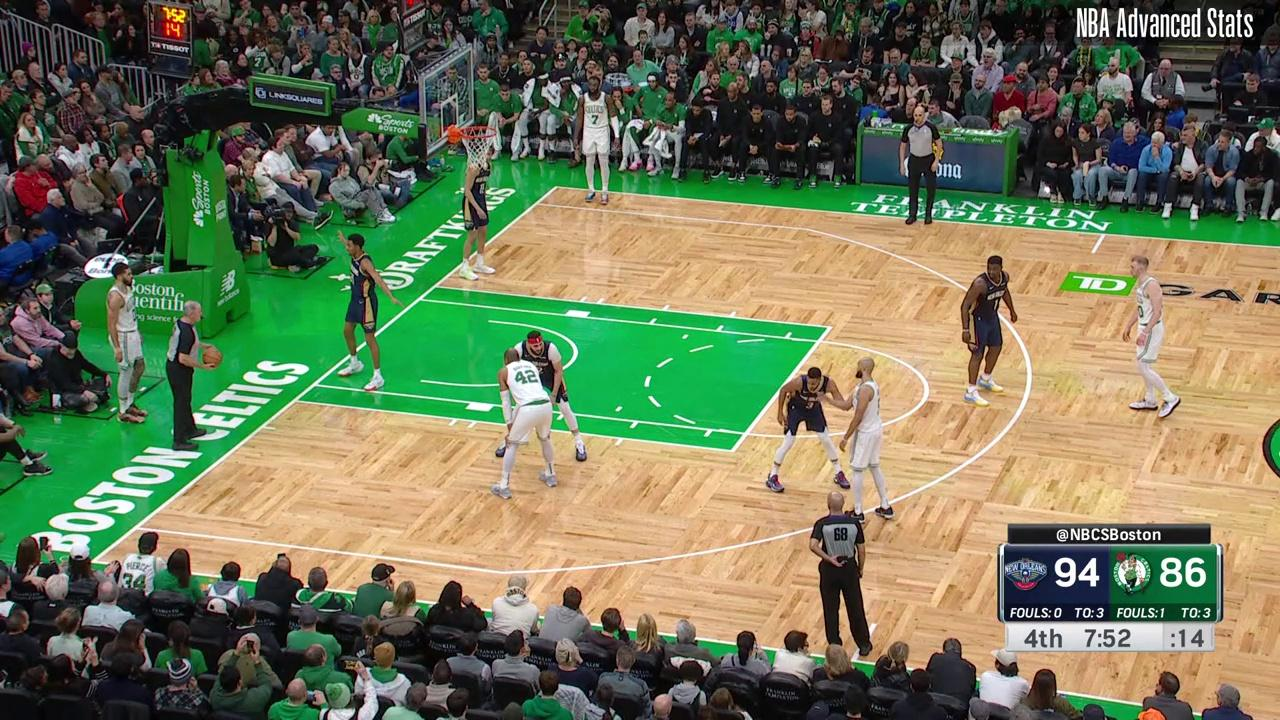3_dx: (529, 199, 544, 211)
3_sx: (129, 521, 144, 535)
b_dx: (549, 182, 564, 194)
b_sx: (86, 554, 102, 570)
free_adx: (822, 321, 837, 333)
free_asx: (724, 444, 739, 458)
free_bdx: (427, 281, 442, 294)
free_bsx: (289, 395, 304, 409)
mid_dx: (1086, 246, 1099, 257)
mid_sx: (867, 619, 880, 629)
referee: (808, 489, 879, 657), (163, 298, 225, 456), (896, 104, 945, 228)
team: (1118, 254, 1184, 421), (835, 352, 899, 524), (491, 348, 556, 502), (103, 259, 149, 432), (571, 75, 623, 204)
team1: (498, 328, 585, 465), (334, 231, 405, 397), (761, 364, 848, 490), (958, 254, 1020, 407), (458, 145, 495, 282)
timer: (1080, 618, 1136, 656)
